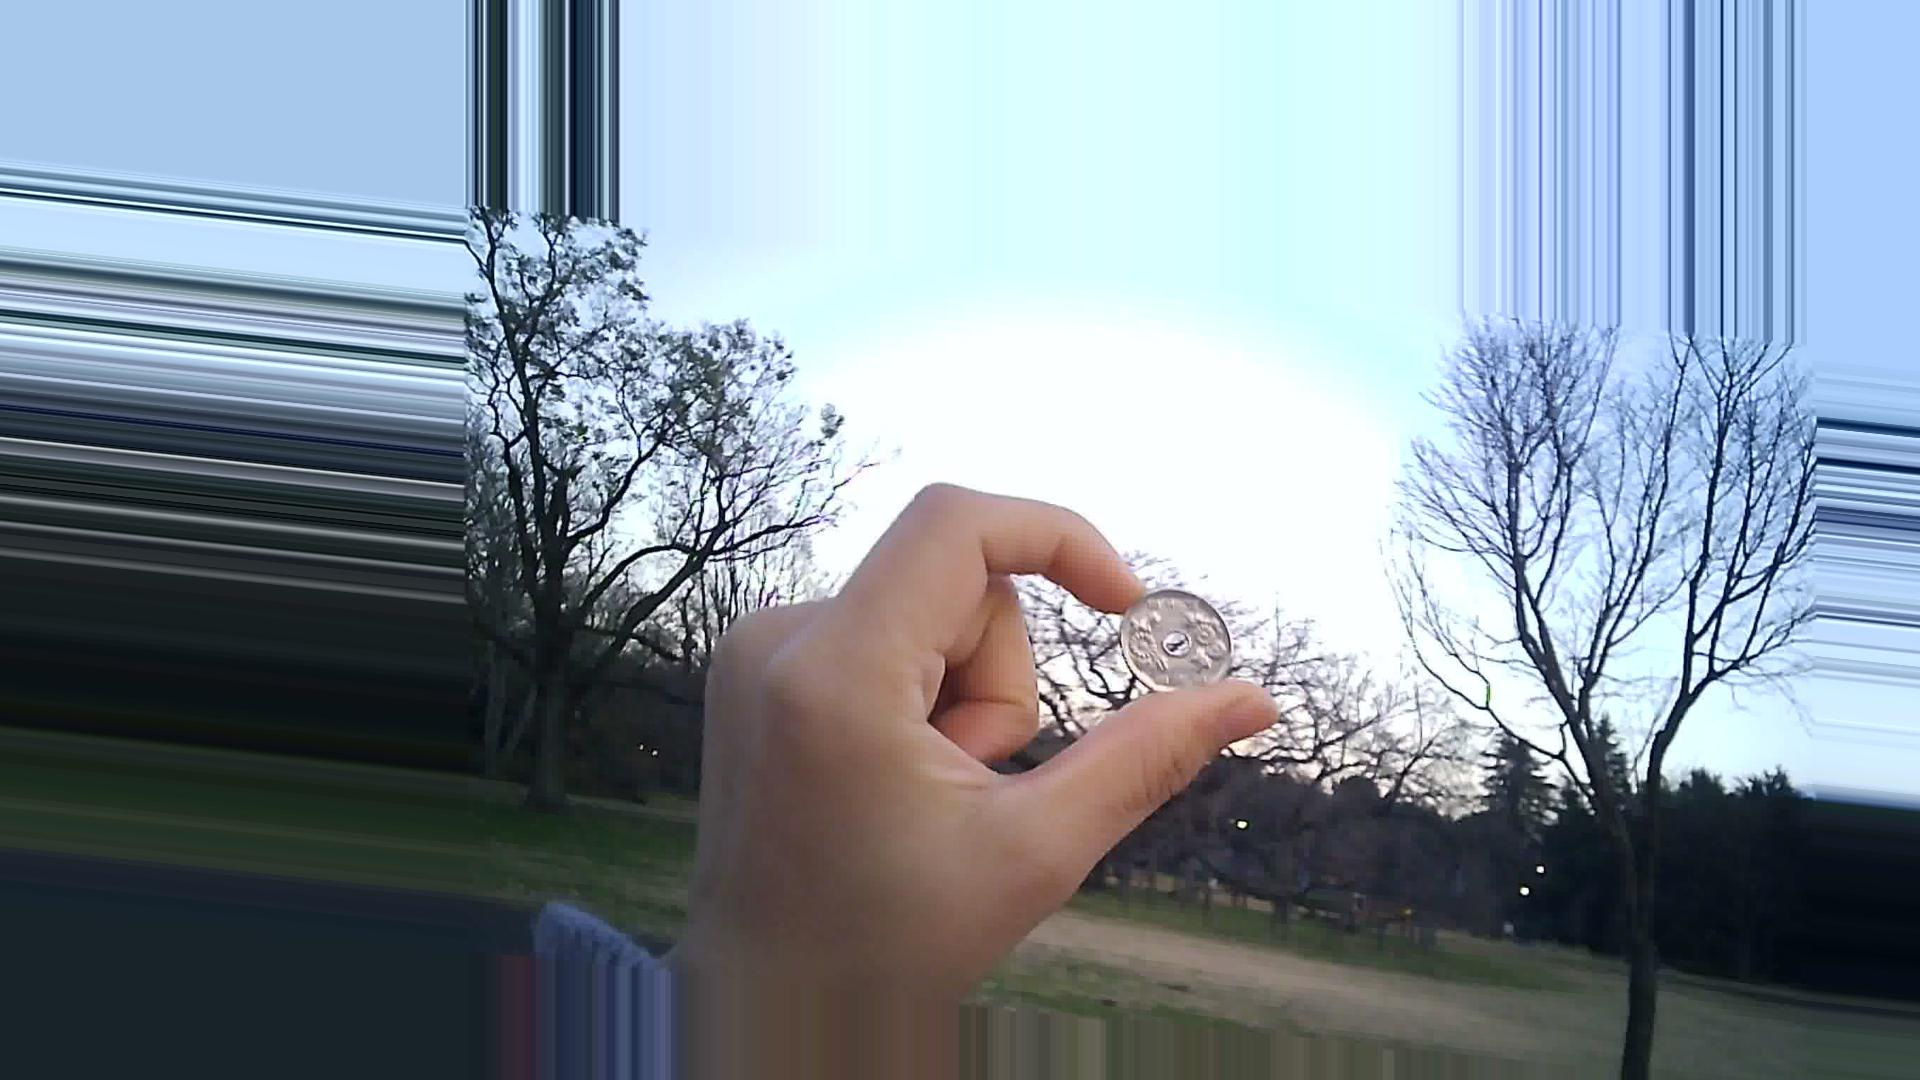50 Yen: (1110, 575, 1242, 717)
